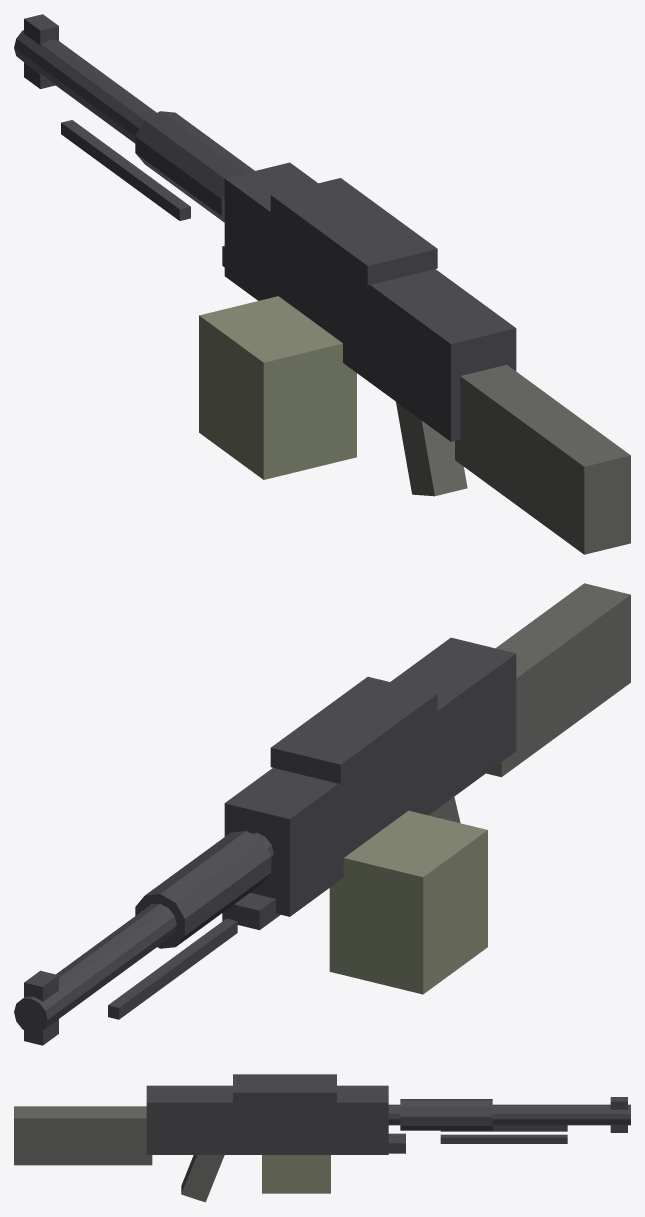
The model's file is lmg.glb.
3 renders of one model, top to bottom at view 1: azimuth 30°, elevation 25°; view 2: azimuth 150°, elevation 25°; view 3: azimuth 270°, elevation 25°, orthographic. The views are drawn at different scales.
Visible parts, largest first — view 1: LMG; view 2: LMG; view 3: LMG.
Boxes of the visible parts, bbox=[...] form: LMG: bbox=[14, 14, 630, 554]; LMG: bbox=[14, 583, 630, 1045]; LMG: bbox=[14, 1074, 630, 1202].
Size of the model in its own units: 0.1575 by 0.22 by 1.07.
